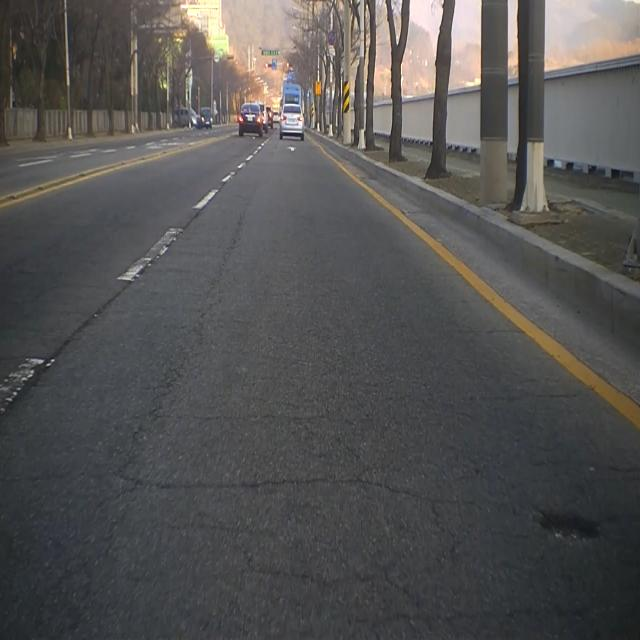Pothole: (532, 502, 602, 556)
